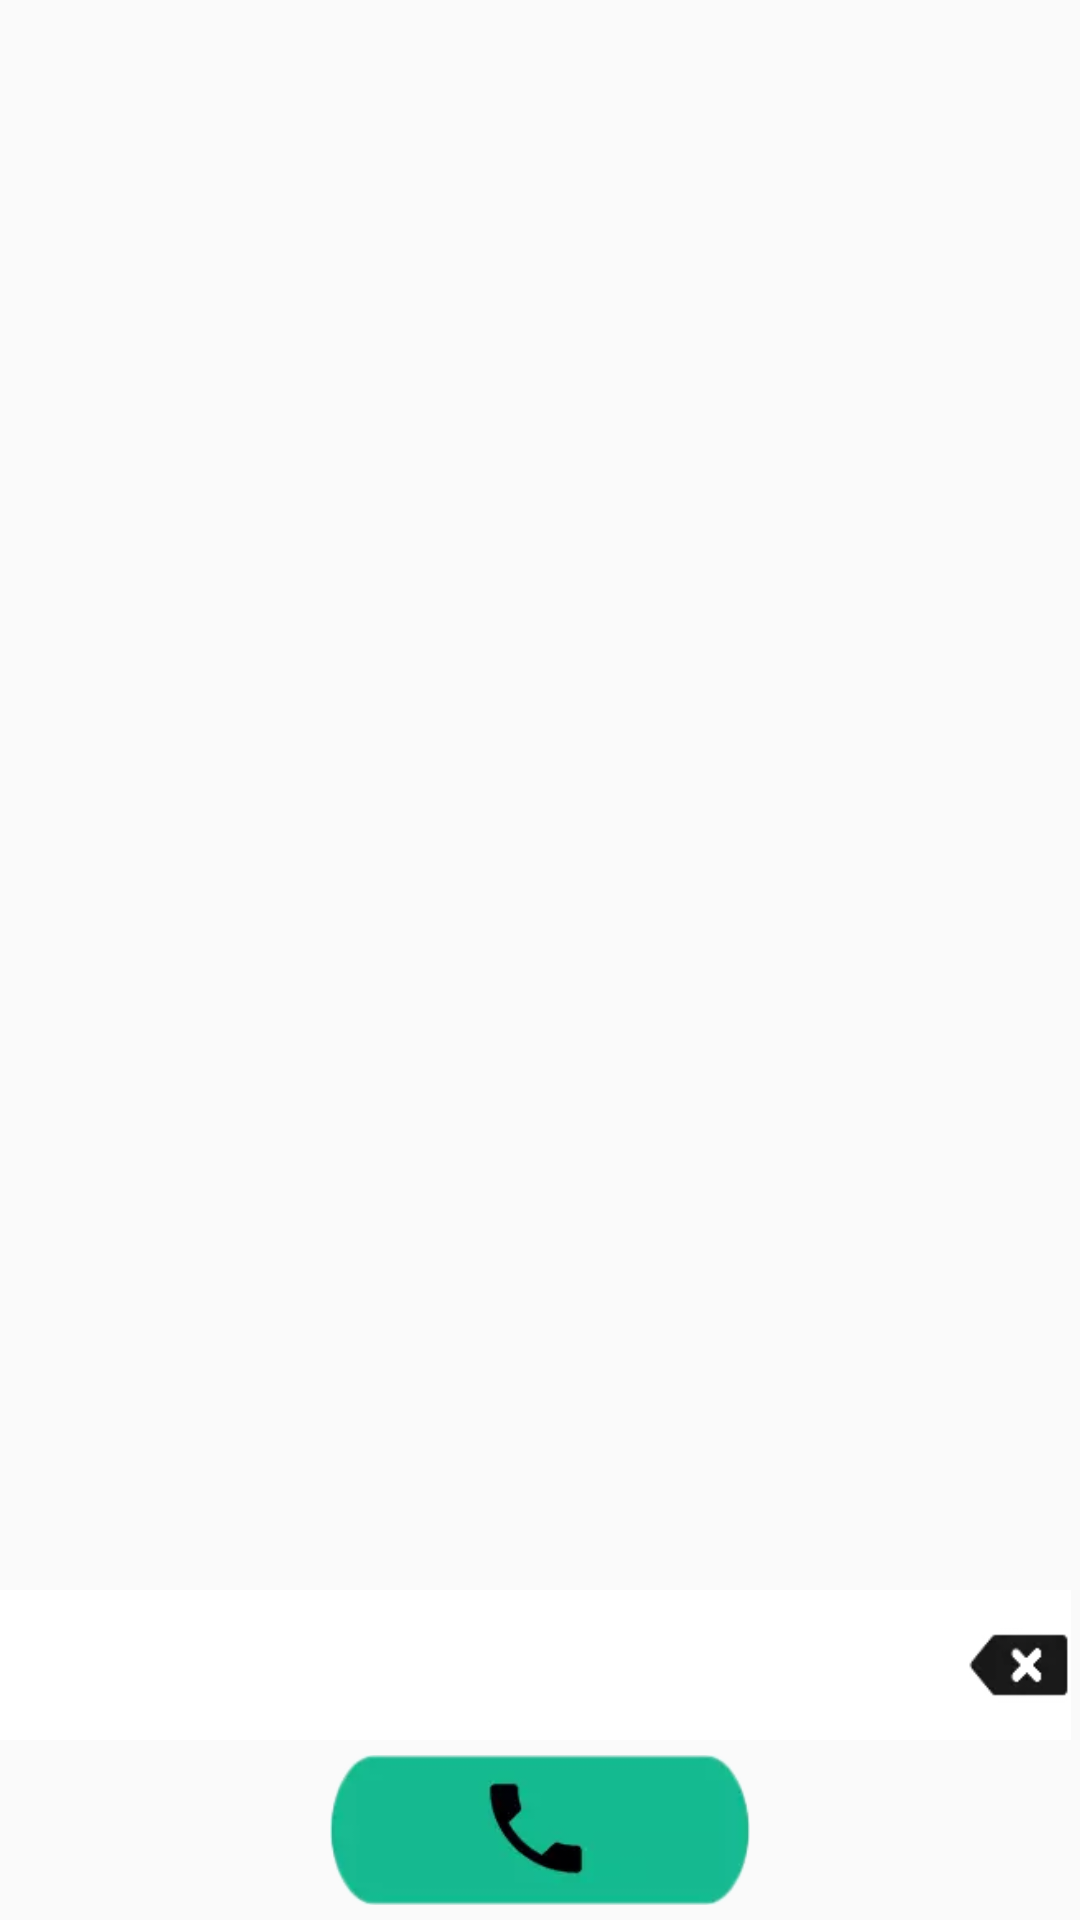

Where icons sit on this 1080 × 1920 app screen, as (x1, y1, x2, y2):
back press: (969, 1634, 1068, 1696)
